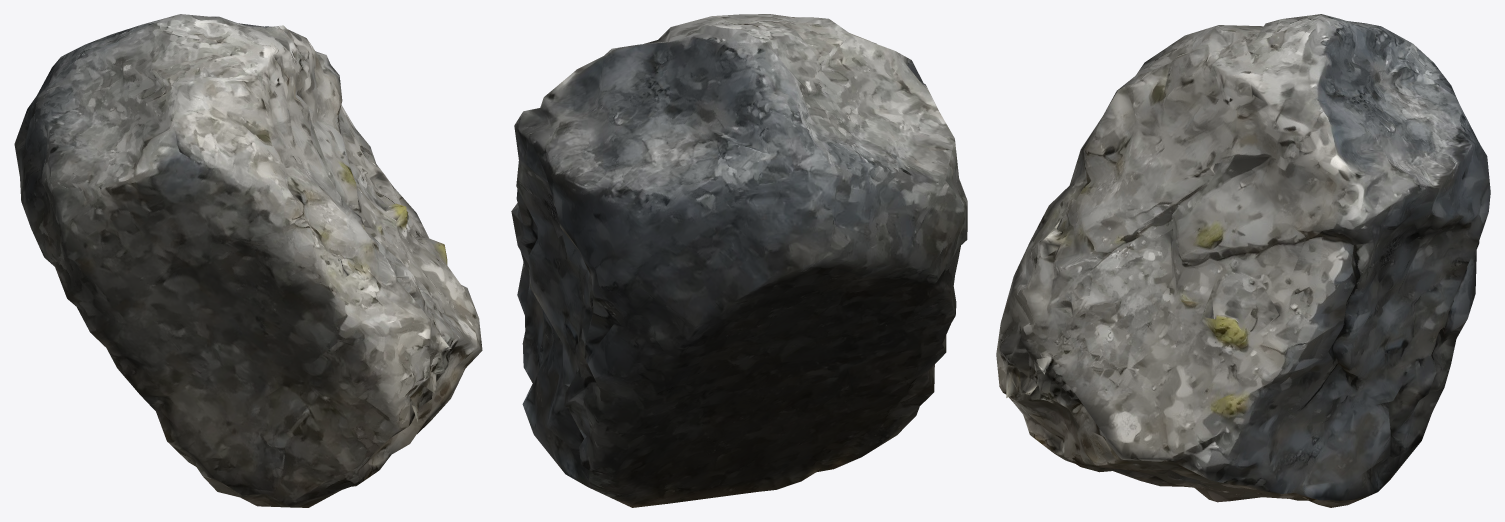
File: e_boulder.glb
The picture shows the model from 3 angles, left to right: view 1: azimuth 30°, elevation 25°; view 2: azimuth 150°, elevation 25°; view 3: azimuth 270°, elevation 25°; orthographic projection. The views are drawn at different scales.
Visible parts, largest first — view 1: tripo_node_3e43b018-0c55-4715-94c4-3430efb2b529; view 2: tripo_node_3e43b018-0c55-4715-94c4-3430efb2b529; view 3: tripo_node_3e43b018-0c55-4715-94c4-3430efb2b529.
Part boxes in pixels (x1,y1,x2,y2): tripo_node_3e43b018-0c55-4715-94c4-3430efb2b529: (14,14,482,507); tripo_node_3e43b018-0c55-4715-94c4-3430efb2b529: (511,14,967,507); tripo_node_3e43b018-0c55-4715-94c4-3430efb2b529: (996,14,1490,507).
Bounding box in the file's own units: 0.95 × 1 × 0.9872.
Materials: 1 (1 with a texture image).
